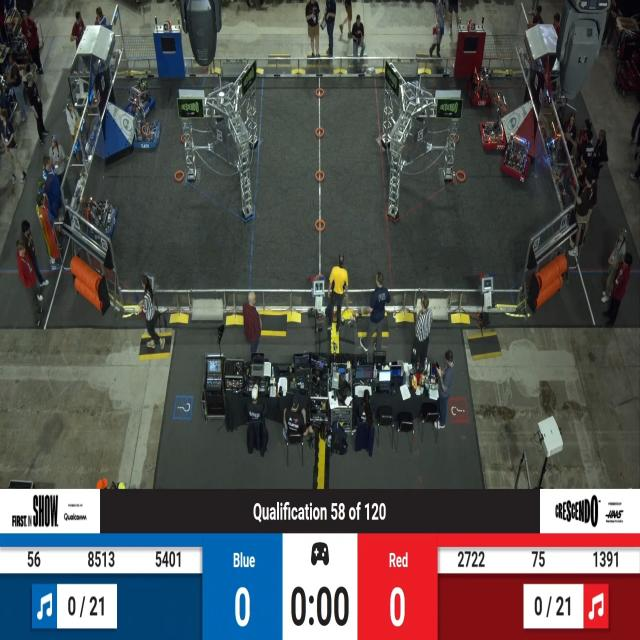Note: (310, 158, 329, 190), (310, 212, 331, 238), (452, 162, 468, 190), (312, 121, 328, 145), (174, 127, 195, 144), (312, 82, 327, 103), (172, 168, 187, 185), (447, 131, 462, 147)
Robot: (478, 84, 508, 164), (501, 124, 534, 193), (82, 192, 120, 245), (468, 58, 493, 114), (132, 111, 162, 156), (125, 79, 154, 116)
